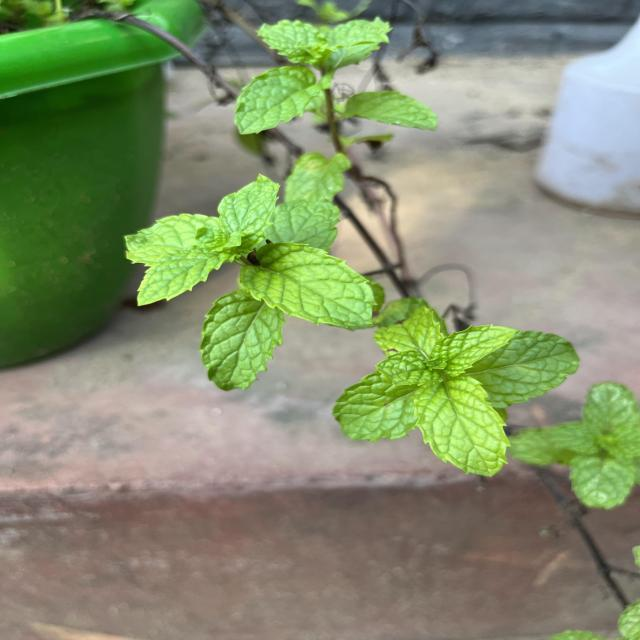Mentha spicata: (239, 240, 379, 330), (413, 374, 512, 478), (198, 290, 286, 392), (136, 244, 242, 308), (429, 323, 518, 377)
